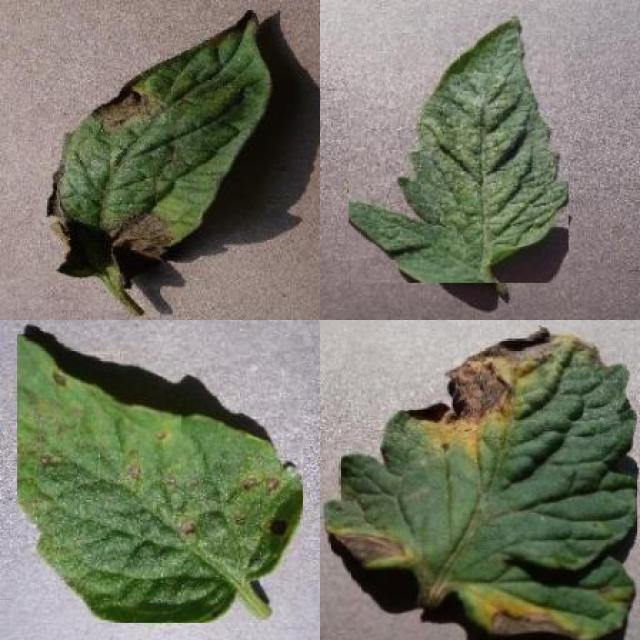Early Blight: (326, 327, 638, 640)
Late Blight: (48, 9, 272, 287)
Septoria: (17, 334, 303, 622)
Spider Mites: (350, 14, 570, 282)
